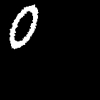chain: (10, 5, 37, 48)
